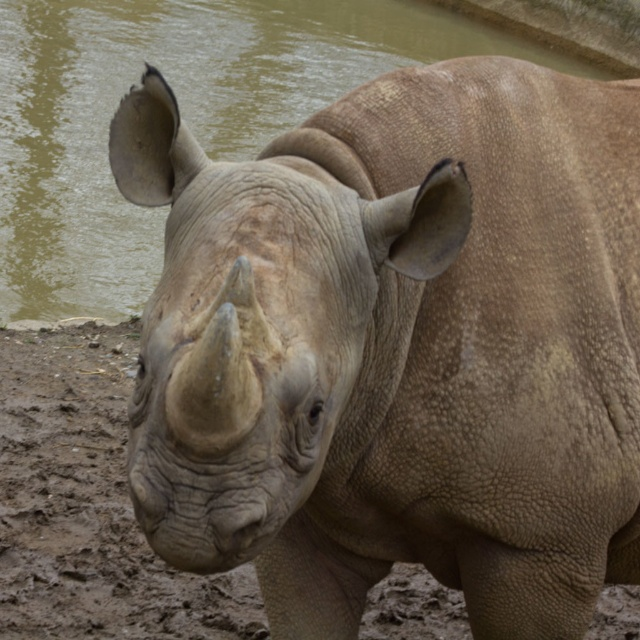Rhinoceros: (113, 45, 639, 639)
